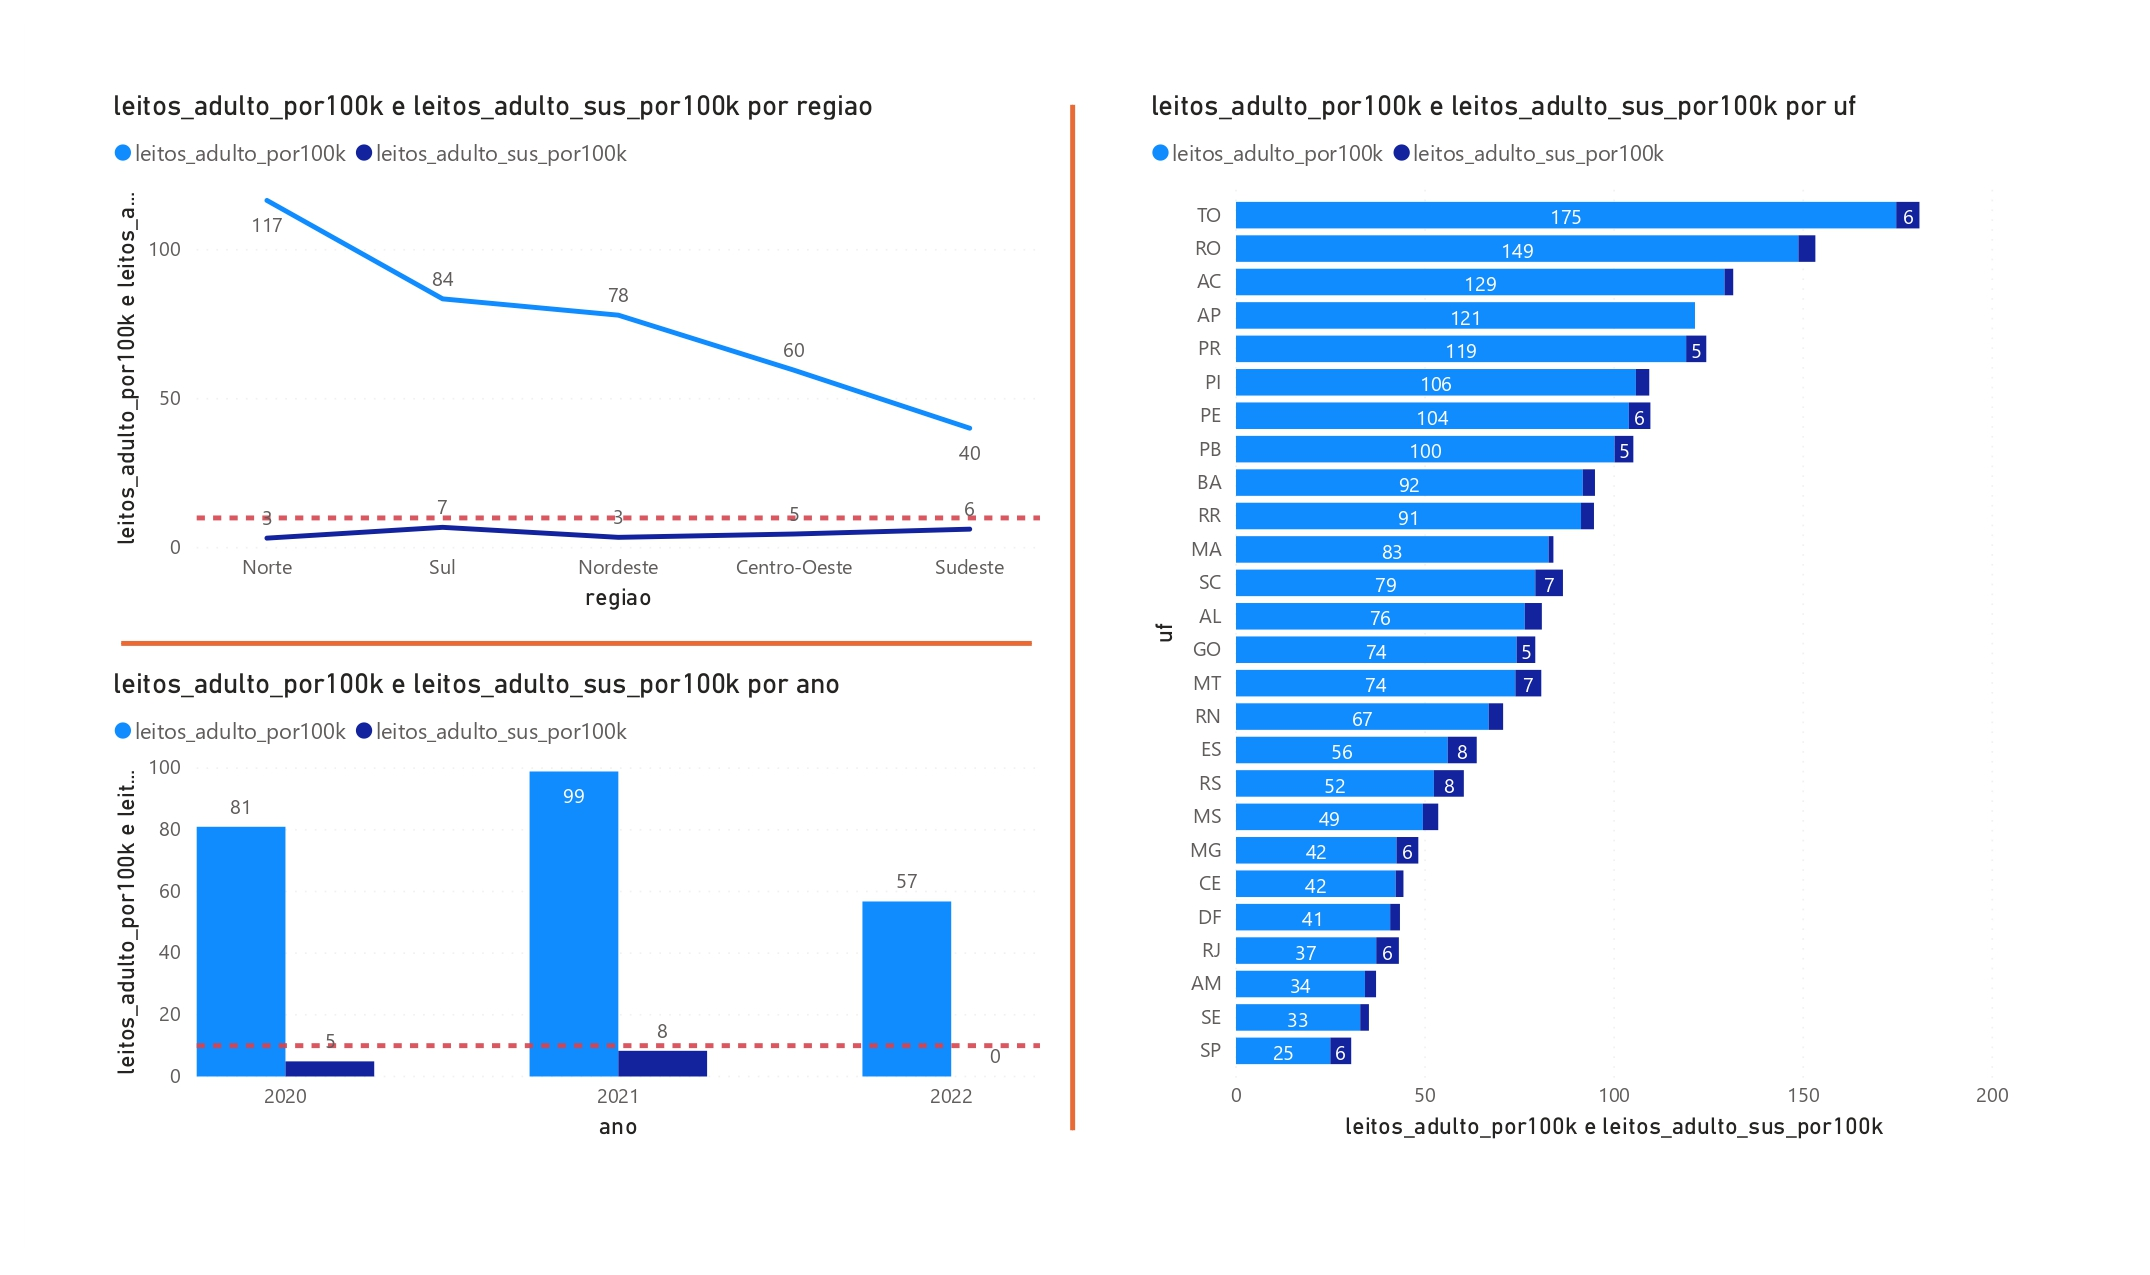

The page's visual inventory and layout, read from the dashboard file:
{"tool":"powerbi","page":{"name":"Leitos  UTI TT E SUS 100K","canvas":[1280,720],"ordinal":7},"visuals":[{"type":"basicShape","box":[624.7,25.5,28.9,645.1],"z":0},{"type":"barChart","fields":{"Category":["projetotcc dim_local.uf"],"Y":["Avg(projetotcc fato_recursos.quant_leitos_adulto_por100k)","Avg(projetotcc fato_recursos.quant_leitos_adulto_sus_por100k)"]},"box":[680.9,25.5,532.8,645.1],"z":5},{"type":"lineChart","fields":{"Category":["projetotcc dim_local.regiao"],"Y":["Avg(projetotcc fato_recursos.quant_leitos_adulto_por100k)","Avg(projetotcc fato_recursos.quant_leitos_adulto_sus_por100k)"]},"box":[49,26,575,323],"z":1000},{"type":"clusteredColumnChart","fields":{"Category":["projetotcc dim_tempo.ano"],"Y":["Avg(projetotcc fato_recursos.quant_leitos_adulto_por100k)","Avg(projetotcc fato_recursos.quant_leitos_adulto_sus_por100k)"]},"box":[49,378,575,293],"z":2000},{"type":"basicShape","box":[49.4,348.9,575.3,28.9],"z":3000}]}

Visuals, with their boxes on the page's 1280x720 design canvas (x1, y1, x2, y2). These are canvas units, not pixel positions in the 2150x1275 screenshot, which may show the page scaled, cropped or inside an application window:
basicShape: [625,26,654,671]
barChart - projetotcc dim_local.uf x Avg(projetotcc fato_recursos.quant_leitos_adulto_por100k): [681,26,1214,671]
lineChart - projetotcc dim_local.regiao x Avg(projetotcc fato_recursos.quant_leitos_adulto_por100k): [49,26,624,349]
clusteredColumnChart - projetotcc dim_tempo.ano x Avg(projetotcc fato_recursos.quant_leitos_adulto_por100k): [49,378,624,671]
basicShape: [49,349,625,378]
